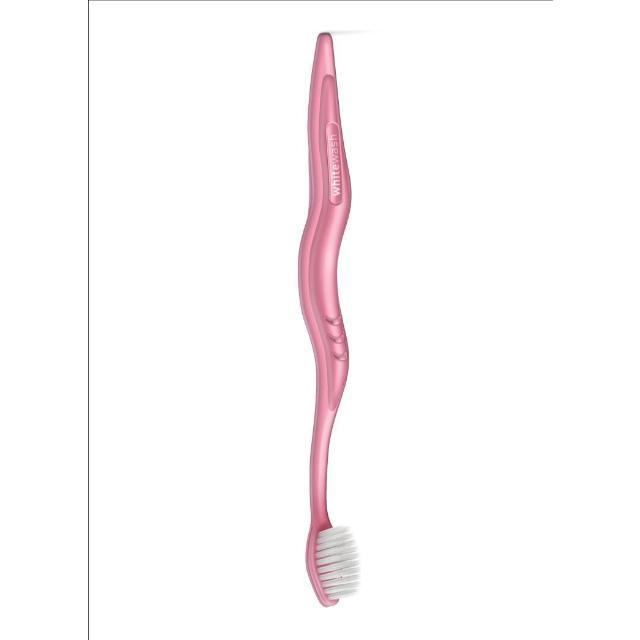toothbrush: (256, 16, 398, 622)
